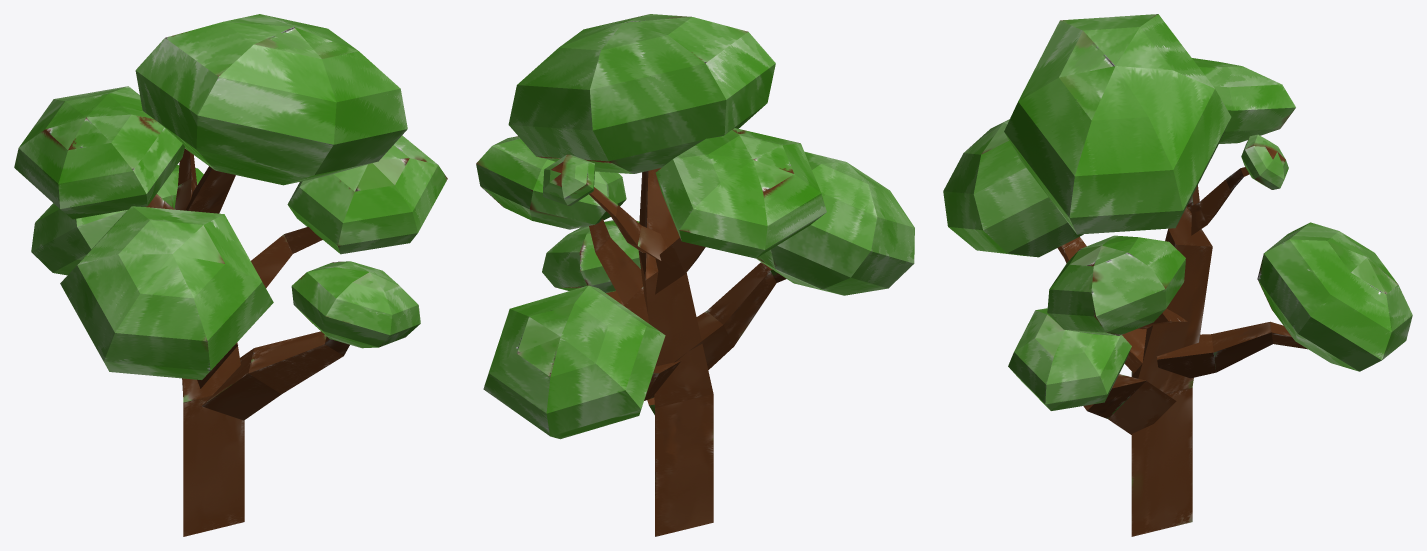
The model's file is tree_with_leaves.obj.
3 views of the same model, side by side, from view 1: azimuth 30°, elevation 25°; view 2: azimuth 150°, elevation 25°; view 3: azimuth 270°, elevation 25° (orthographic). The views are drawn at different scales.
Visible parts, largest first — view 1: Sphere.004; view 2: Sphere.004; view 3: Sphere.004.
Part boxes in pixels (box(x1,y1,x2,y2)): Sphere.004: box(14, 14, 447, 536); Sphere.004: box(476, 14, 914, 536); Sphere.004: box(943, 14, 1412, 536).
Bounding box in the file's own units: 11.11 × 13.6 × 11.54.
